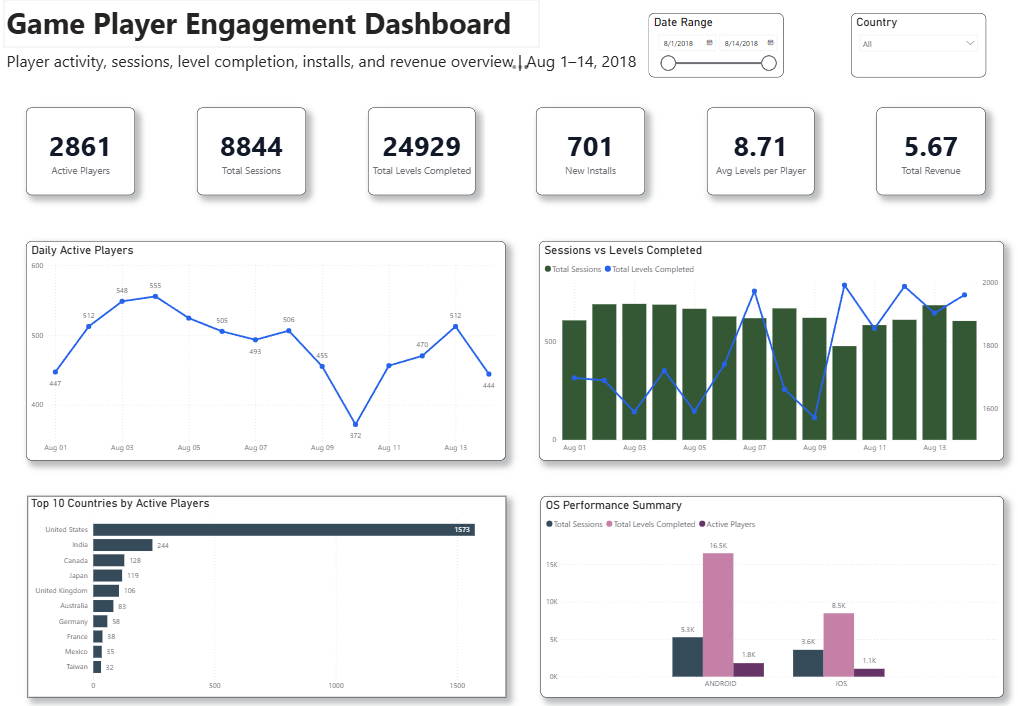

This screenshot's page, from the dashboard's own definition file:
{"tool":"powerbi","page":{"name":"Overview","canvas":[1700,1200],"ordinal":0},"visuals":[{"type":"card","fields":{"Values":["Fact_Daily_Events.Active Players"]},"box":[55.2,195.8,180.7,145.6],"z":0},{"type":"card","fields":{"Values":["Fact_Daily_Events.Total Sessions"]},"box":[337.8,195.9,180.7,145.6],"z":1000},{"type":"card","fields":{"Values":["Fact_Daily_Events.Total Levels Completed"]},"box":[620.4,196,178.2,145.6],"z":2000},{"type":"card","fields":{"Values":["Fact_Daily_Events.Total Revenue"]},"box":[1463.2,196.4,180.7,145.6],"z":3000},{"type":"card","fields":{"Values":["Fact_Daily_Events.Avg Levels per Player"]},"box":[1183.1,196.3,178.2,145.6],"z":4000},{"type":"card","fields":{"Values":["Fact_Daily_Events.New Installs"]},"box":[900.5,196.1,180.7,145.6],"z":5000},{"type":"textbox","box":[17.6,17.6,888.5,80.3],"z":6000},{"type":"textbox","box":[17.6,77.8,1069.2,92.9],"z":7000},{"type":"lineChart","title":"Daily Active Players","fields":{"Y":["Fact_Daily_Events.Active Players"],"Category":["Fact_Daily_Events.Date"]},"box":[55.2,416.6,795.6,363.9],"z":8000},{"type":"lineStackedColumnComboChart","title":"Sessions vs Levels Completed","fields":{"Category":["Date Table.Date"],"Y":["Fact_Daily_Events.Total Sessions"],"Y2":["Fact_Daily_Events.Total Levels Completed"]},"box":[906.1,416.6,770.5,363.9],"z":9000},{"type":"clusteredBarChart","title":"Top 10 Countries by Active Players","fields":{"Category":["Fact_Daily_Events.country"],"Y":["Fact_Daily_Events.Active Players"]},"box":[57.7,840.8,793.1,333.8],"z":10000},{"type":"clusteredColumnChart","title":"OS Performance Summary","fields":{"Category":["Fact_Daily_Events.os"],"Y":["Fact_Daily_Events.Total Sessions","Fact_Daily_Events.Total Levels Completed","Fact_Daily_Events.Active Players"]},"box":[908.6,840.8,768,333.8],"z":11000},{"type":"slicer","title":"Date Range","fields":{"Values":["Date Table.Date"]},"box":[1116.3,17.4,223.8,151.7],"z":12000},{"type":"slicer","title":"Country","fields":{"Values":["Fact_Daily_Events.country"]},"box":[1422.2,17.8,224.4,151.1],"z":13000}]}

Visuals, with their boxes in screenshot pixels (x1, y1, x2, y2), scaled from the page's 1700x1200 canvas onto the 1018x706 screenshot:
card - Fact_Daily_Events.Active Players: (x1=33, y1=115, x2=141, y2=201)
card - Fact_Daily_Events.Total Sessions: (x1=202, y1=115, x2=310, y2=201)
card - Fact_Daily_Events.Total Levels Completed: (x1=372, y1=115, x2=478, y2=201)
card - Fact_Daily_Events.Total Revenue: (x1=876, y1=116, x2=984, y2=201)
card - Fact_Daily_Events.Avg Levels per Player: (x1=708, y1=115, x2=815, y2=201)
card - Fact_Daily_Events.New Installs: (x1=539, y1=115, x2=647, y2=201)
textbox: (x1=11, y1=10, x2=543, y2=58)
textbox: (x1=11, y1=46, x2=651, y2=100)
"Daily Active Players" lineChart: (x1=33, y1=245, x2=509, y2=459)
"Sessions vs Levels Completed" lineStackedColumnComboChart: (x1=543, y1=245, x2=1004, y2=459)
"Top 10 Countries by Active Players" clusteredBarChart: (x1=35, y1=495, x2=509, y2=691)
"OS Performance Summary" clusteredColumnChart: (x1=544, y1=495, x2=1004, y2=691)
"Date Range" slicer: (x1=668, y1=10, x2=802, y2=99)
"Country" slicer: (x1=852, y1=10, x2=986, y2=99)
